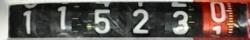digits: (132, 8, 149, 34), (172, 11, 190, 35), (94, 8, 110, 34), (210, 1, 226, 23), (57, 5, 67, 30), (23, 9, 31, 34)
